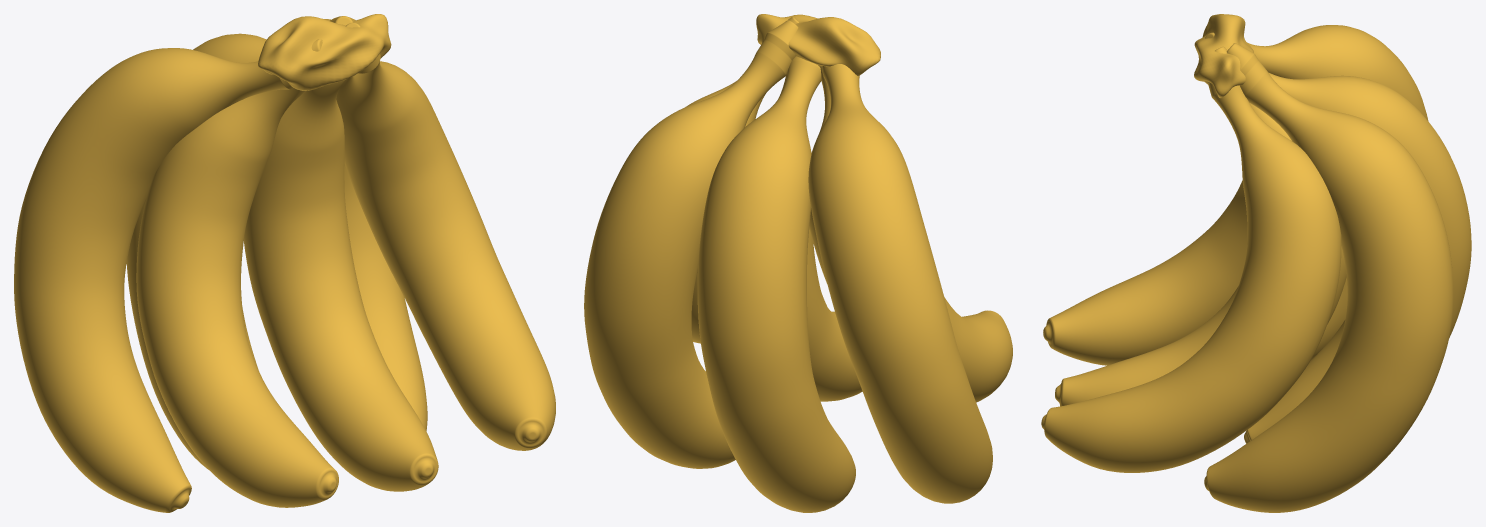
Rendered from Banana.fbx.
The picture shows the model from 3 angles, left to right: view 1: azimuth 30°, elevation 25°; view 2: azimuth 150°, elevation 25°; view 3: azimuth 270°, elevation 25°; orthographic projection. The views are drawn at different scales.
Parts seen in each view (by area): view 1: Cube.005; view 2: Cube.005; view 3: Cube.005.
Part boxes in pixels (x1,y1,x2,y2): Cube.005: [14, 14, 555, 512]; Cube.005: [584, 14, 1012, 512]; Cube.005: [1041, 14, 1471, 512].
Bounding box in the file's own units: 295 × 331 × 286.
